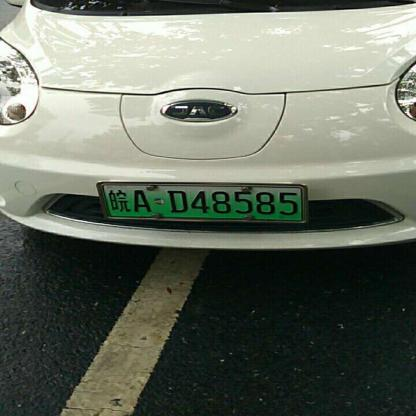lp: (102, 184, 302, 221)
